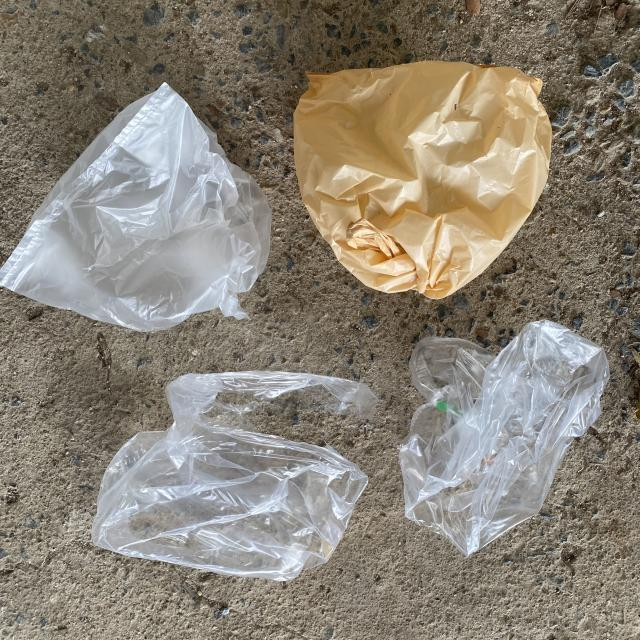Single-layer Plastic: (0, 84, 271, 331), (294, 61, 551, 299), (91, 371, 376, 581), (399, 320, 609, 555)
